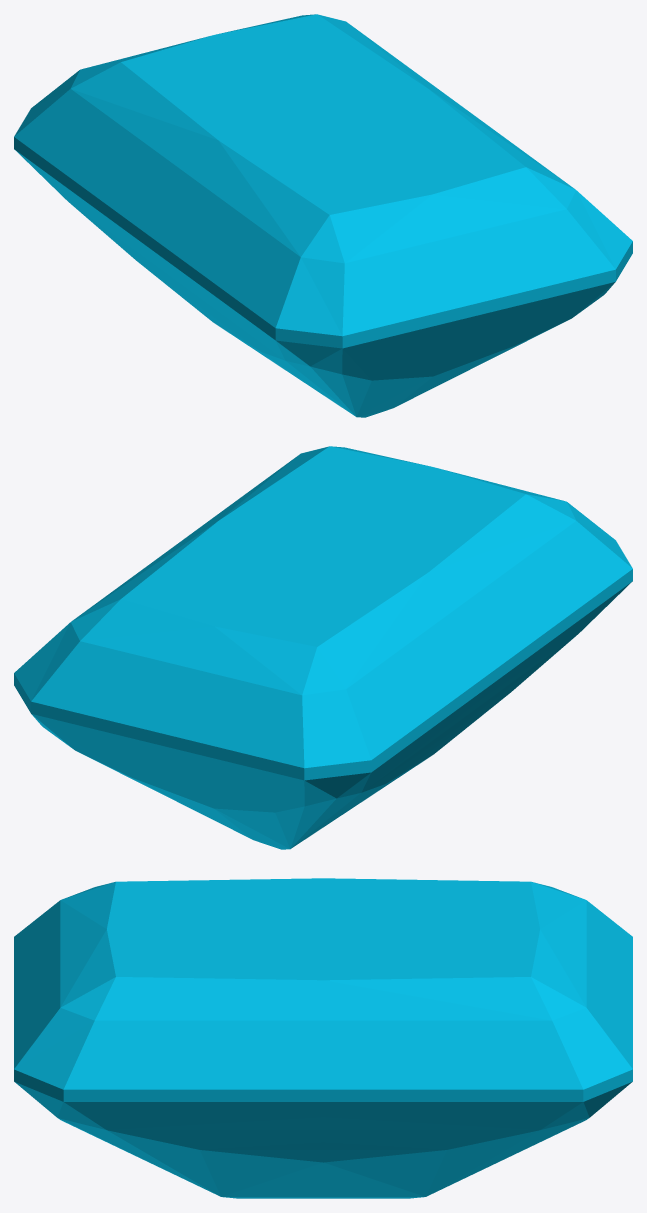
The model's file is Head_Hidden Halo_Radiant_0.50ct_Diamond.glb.
3 renders of one model, top to bottom at view 1: azimuth 30°, elevation 25°; view 2: azimuth 150°, elevation 25°; view 3: azimuth 270°, elevation 25°, orthographic.
Size of the model in its own units: 0.0038 by 0.00276 by 0.00574.
